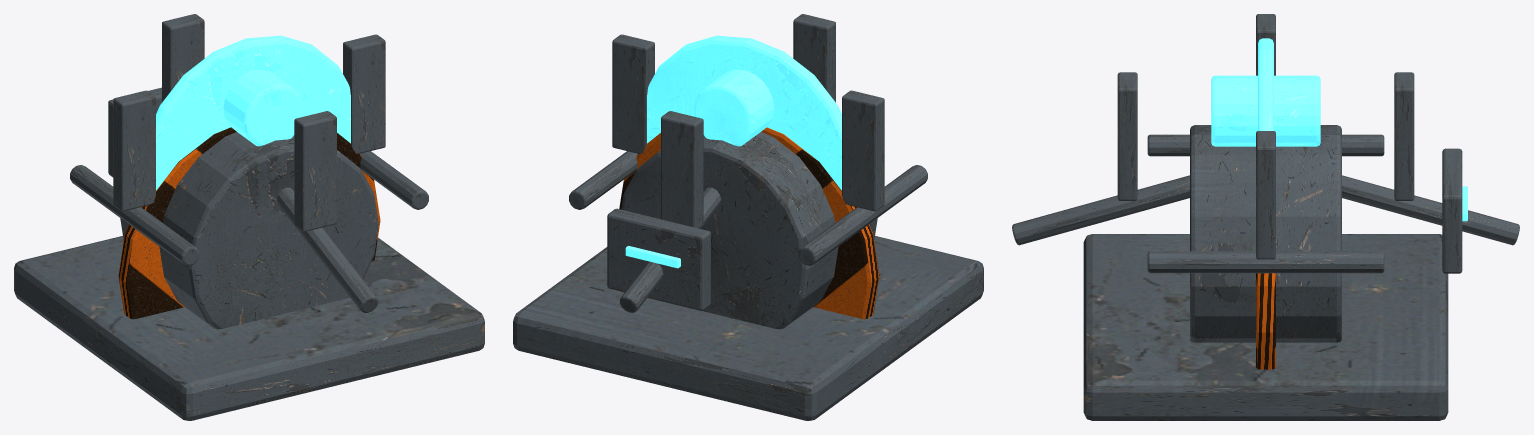
Rendered from objective_device.glb.
The picture shows the model from 3 angles, left to right: view 1: azimuth 30°, elevation 25°; view 2: azimuth 150°, elevation 25°; view 3: azimuth 270°, elevation 25°; orthographic projection. The views are drawn at different scales.
Parts seen in each view (by area): view 1: RelayBase, RelayPedestal, RelayRingUpper, RelayRingLower, RelayFin_0, RelayFin_4.71238898038469, ObjectiveCore, RelayFin_1.5707963267948966, RelayStrut_4.71238898038469, RelayStrut_0, RelayFin_3.141592653589793, RelayStrut_1.5707963267948966 (+1 smaller); view 2: RelayBase, RelayPedestal, RelayRingUpper, RelayControlPanel, RelayRingLower, RelayFin_4.71238898038469, RelayFin_3.141592653589793, ObjectiveCore, RelayFin_1.5707963267948966, RelayStrut_4.71238898038469, RelayFin_0, RelayStrut_1.5707963267948966 (+2 smaller); view 3: RelayBase, RelayPedestal, ObjectiveCore, RelayStrut_1.5707963267948966, RelayStrut_0, RelayStrut_3.141592653589793, RelayFin_0, RelayFin_3.141592653589793, RelayControlPanel, RelayFin_1.5707963267948966, RelayStrut_4.71238898038469, RelayRingLower (+2 smaller).
Boxes of the visible parts, bbox=[...] form: RelayBase: bbox=[14, 236, 484, 420]; RelayPedestal: bbox=[120, 132, 378, 329]; RelayRingUpper: bbox=[156, 35, 350, 190]; RelayRingLower: bbox=[118, 127, 380, 319]; RelayFin_0: bbox=[294, 111, 336, 231]; RelayFin_4.71238898038469: bbox=[113, 90, 155, 211]; ObjectiveCore: bbox=[223, 69, 303, 146]; RelayFin_1.5707963267948966: bbox=[343, 34, 385, 153]; RelayStrut_4.71238898038469: bbox=[70, 165, 199, 265]; RelayStrut_0: bbox=[277, 187, 378, 312]; RelayFin_3.141592653589793: bbox=[162, 14, 204, 102]; RelayStrut_1.5707963267948966: bbox=[360, 151, 428, 209]; RelayBase: bbox=[513, 236, 983, 420]; RelayPedestal: bbox=[621, 132, 877, 329]; RelayRingUpper: bbox=[647, 35, 841, 190]; RelayControlPanel: bbox=[607, 208, 710, 310]; RelayRingLower: bbox=[619, 127, 879, 319]; RelayFin_4.71238898038469: bbox=[842, 90, 884, 211]; RelayFin_3.141592653589793: bbox=[661, 111, 703, 228]; ObjectiveCore: bbox=[694, 69, 774, 146]; RelayFin_1.5707963267948966: bbox=[612, 34, 654, 153]; RelayStrut_4.71238898038469: bbox=[798, 165, 927, 265]; RelayFin_0: bbox=[793, 14, 835, 102]; RelayStrut_1.5707963267948966: bbox=[569, 151, 637, 209]; RelayBase: bbox=[1083, 234, 1448, 420]; RelayPedestal: bbox=[1190, 125, 1341, 342]; ObjectiveCore: bbox=[1211, 75, 1320, 146]; RelayStrut_1.5707963267948966: bbox=[1147, 251, 1384, 273]; RelayStrut_0: bbox=[1012, 175, 1189, 245]; RelayStrut_3.141592653589793: bbox=[1342, 175, 1519, 245]; RelayFin_0: bbox=[1117, 72, 1137, 200]; RelayFin_3.141592653589793: bbox=[1394, 72, 1414, 200]; RelayControlPanel: bbox=[1442, 148, 1462, 273]; RelayFin_1.5707963267948966: bbox=[1256, 131, 1275, 259]; RelayStrut_4.71238898038469: bbox=[1147, 134, 1384, 156]; RelayRingLower: bbox=[1256, 273, 1275, 369].
Size of the model in its own units: 1.82 by 1.97 by 2.53.
Materials: 4 (4 with a texture image).
